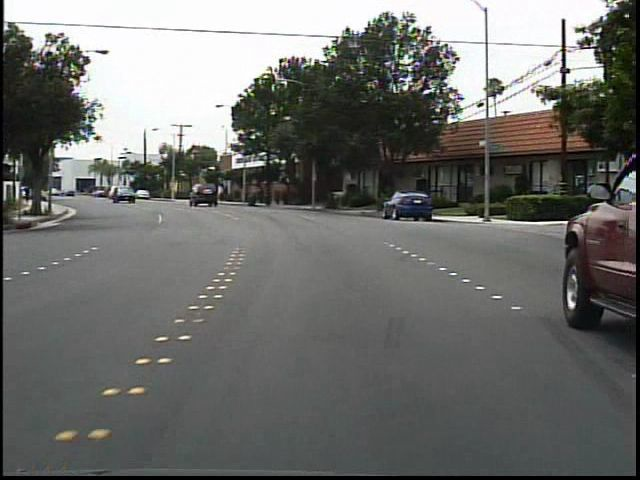person: (20, 178, 38, 208)
